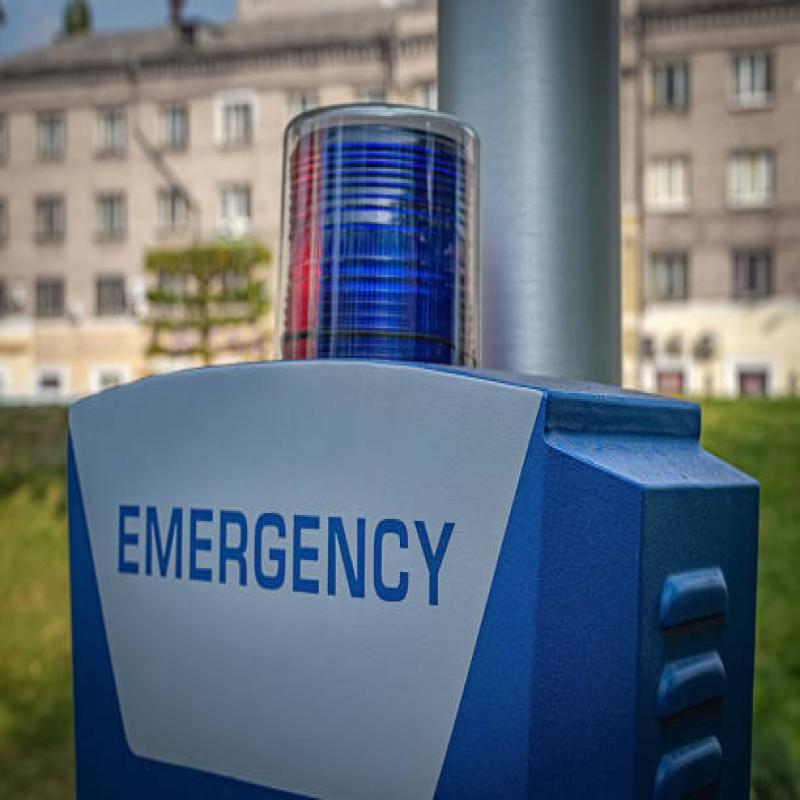AmbulanceSiren: (274, 104, 486, 383)
